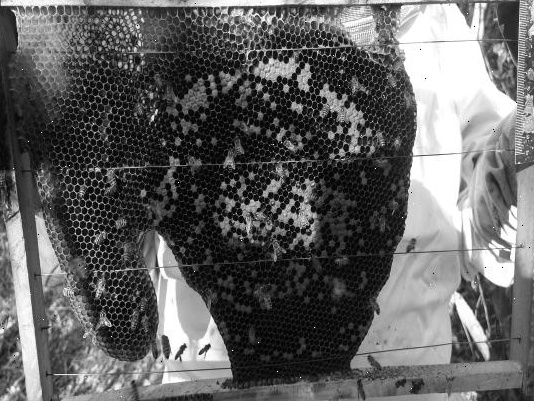cria: (138, 56, 411, 380)
